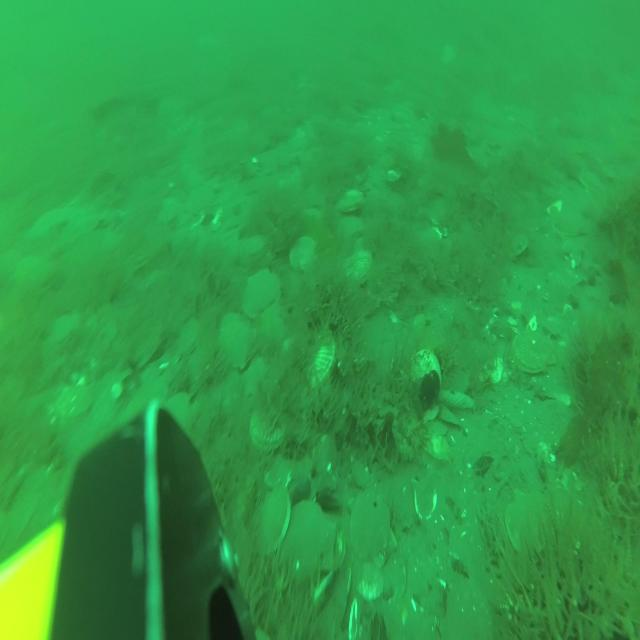scallop: (284, 498, 333, 589), (351, 492, 390, 561), (508, 492, 548, 558), (259, 478, 293, 554), (516, 328, 556, 383), (250, 406, 284, 459), (221, 314, 253, 368), (244, 272, 278, 314), (308, 329, 334, 381), (177, 318, 200, 362), (50, 312, 76, 350), (240, 230, 268, 265), (292, 234, 316, 274), (338, 216, 364, 245), (338, 186, 362, 216), (348, 249, 370, 279)
